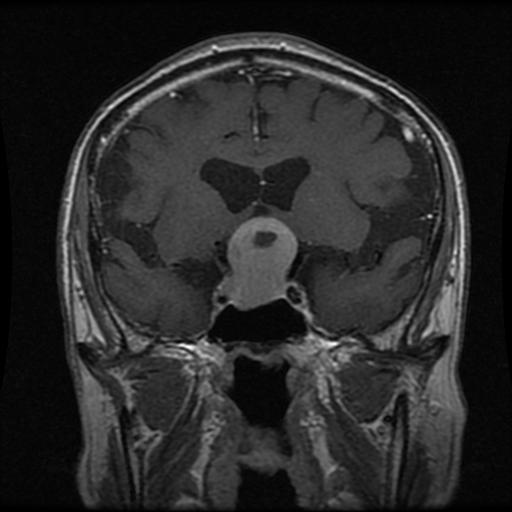Pituirity_tumour: (212, 215, 298, 308)
